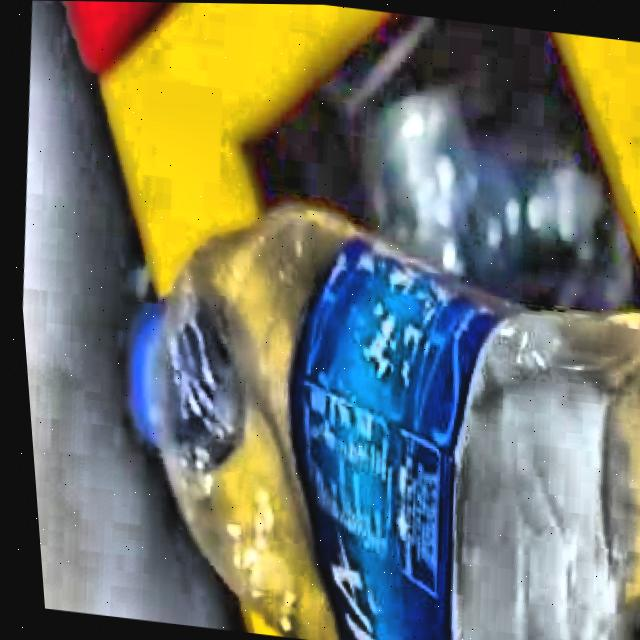plastic: (124, 203, 640, 640)
